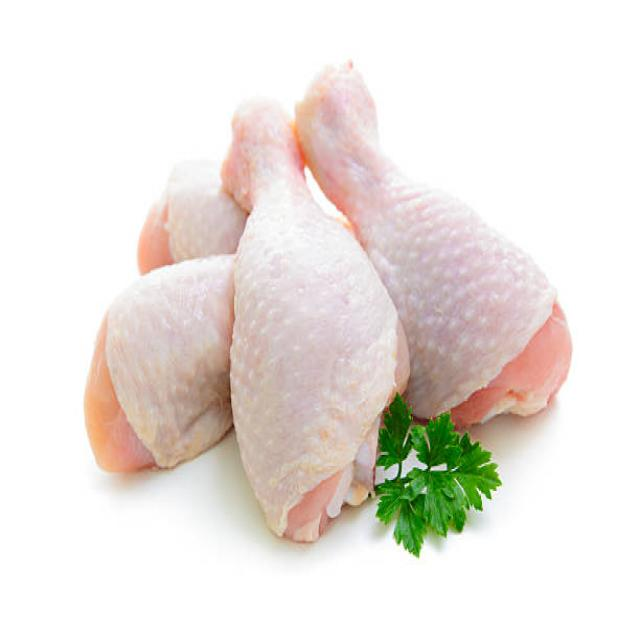chicken thigh: (222, 106, 362, 535), (365, 140, 577, 418)
